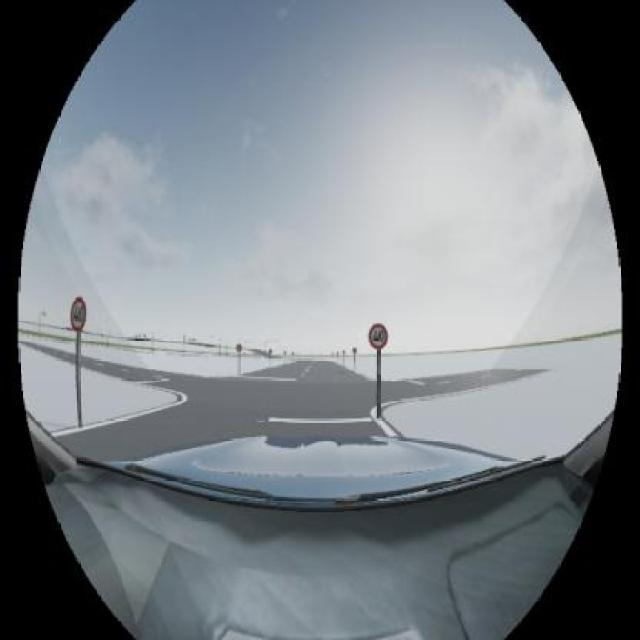forb_speed_over_40: (71, 297, 86, 331), (369, 324, 388, 348)
